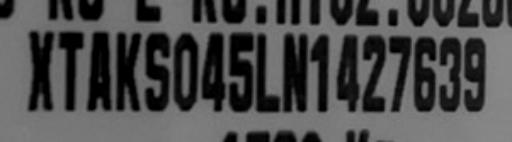letter: (280, 29, 312, 115), (226, 29, 256, 115), (197, 27, 227, 111), (56, 27, 86, 111), (114, 29, 144, 113), (172, 30, 202, 114), (27, 29, 55, 113), (85, 29, 113, 113), (143, 29, 171, 113), (254, 30, 282, 114), (334, 30, 362, 114), (361, 31, 389, 115), (460, 35, 488, 115), (386, 31, 412, 113), (412, 33, 438, 113), (436, 33, 462, 113), (310, 31, 332, 113)
